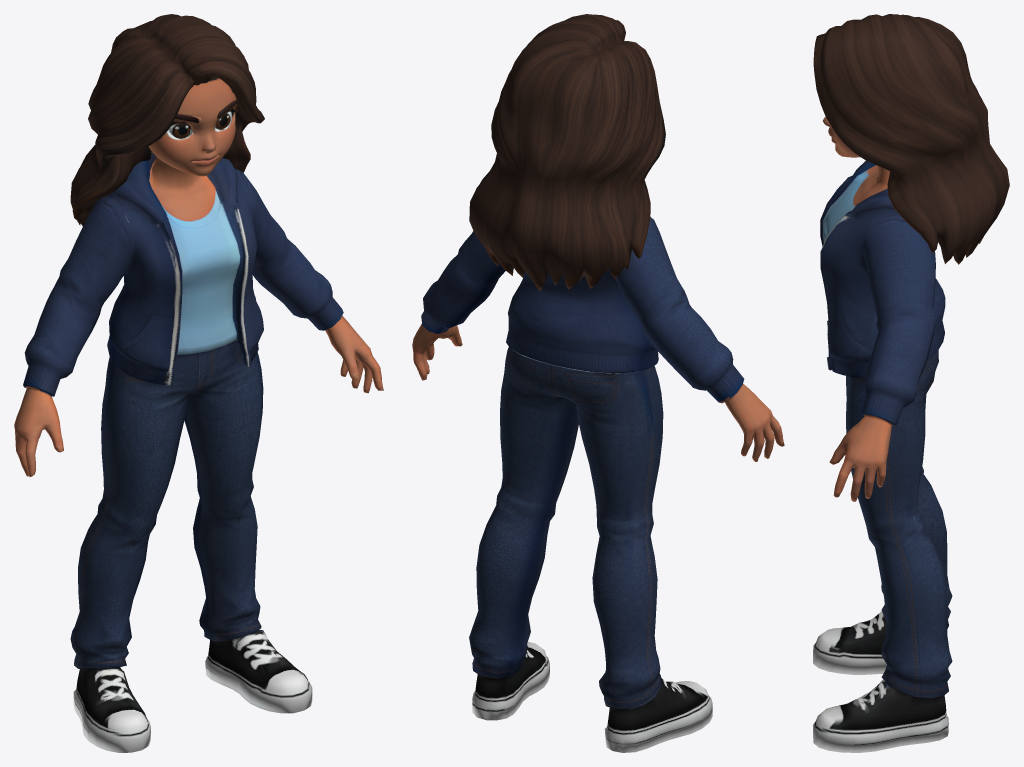
File: Maya.glb
The picture shows the model from 3 angles, left to right: view 1: azimuth 30°, elevation 25°; view 2: azimuth 150°, elevation 25°; view 3: azimuth 270°, elevation 25°; orthographic projection.
Visible parts, largest first — view 1: tripo_2b624b56_5433_49d6_a79c_2073c9e4c01a; view 2: tripo_2b624b56_5433_49d6_a79c_2073c9e4c01a; view 3: tripo_2b624b56_5433_49d6_a79c_2073c9e4c01a.
Part boxes in pixels (box(x1,y1,x2,y2)): tripo_2b624b56_5433_49d6_a79c_2073c9e4c01a: box(14, 14, 383, 752); tripo_2b624b56_5433_49d6_a79c_2073c9e4c01a: box(412, 14, 784, 752); tripo_2b624b56_5433_49d6_a79c_2073c9e4c01a: box(813, 14, 1009, 752).
Bounding box in the file's own units: 0.5454 × 0.9995 × 0.2612.
Materials: 1 (1 with a texture image).
